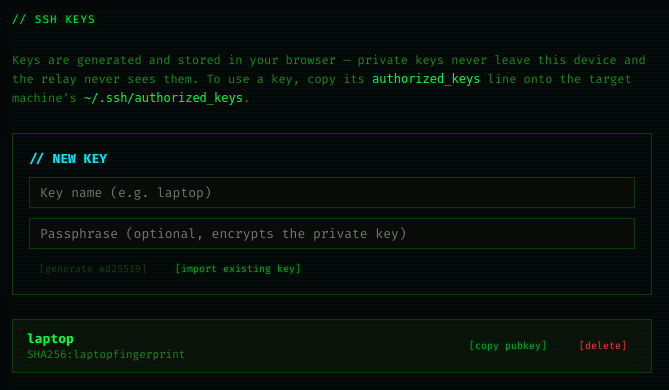
KeysPage › deletes a key and refreshes
Expected: the text "laptop" is shown, x1=27 y1=330 x2=74 y2=347
Click the button "[delete]": [603, 346] box x1=569 y1=336 x2=637 y2=355
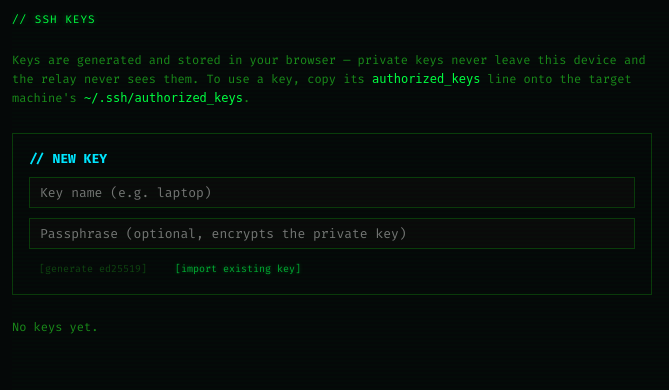
Result: the text "No keys yet." is shown at x1=12 y1=319 x2=98 y2=335
